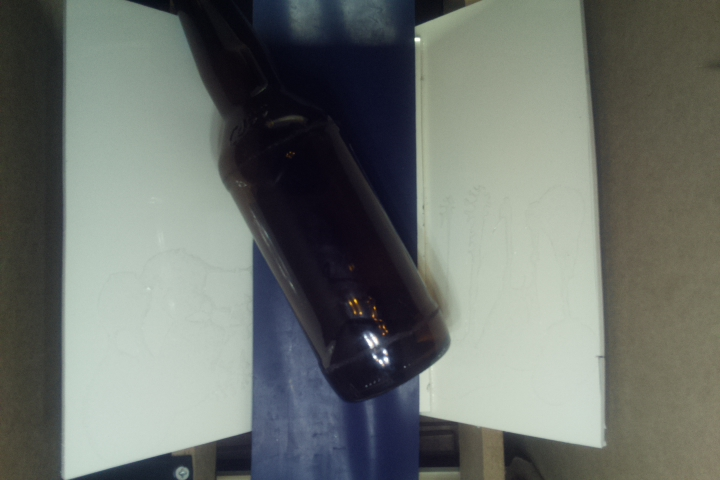makju: (175, 1, 458, 407)
